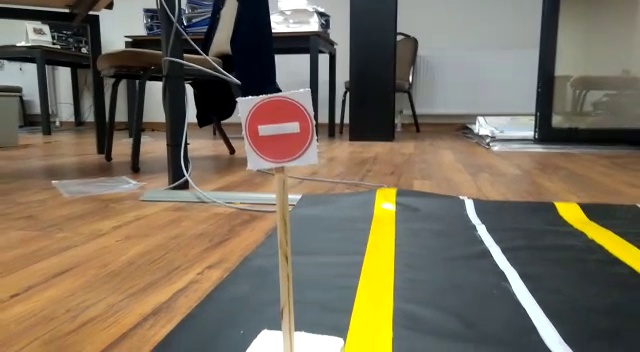girisi_olmayan_yol: (249, 99, 316, 167)
